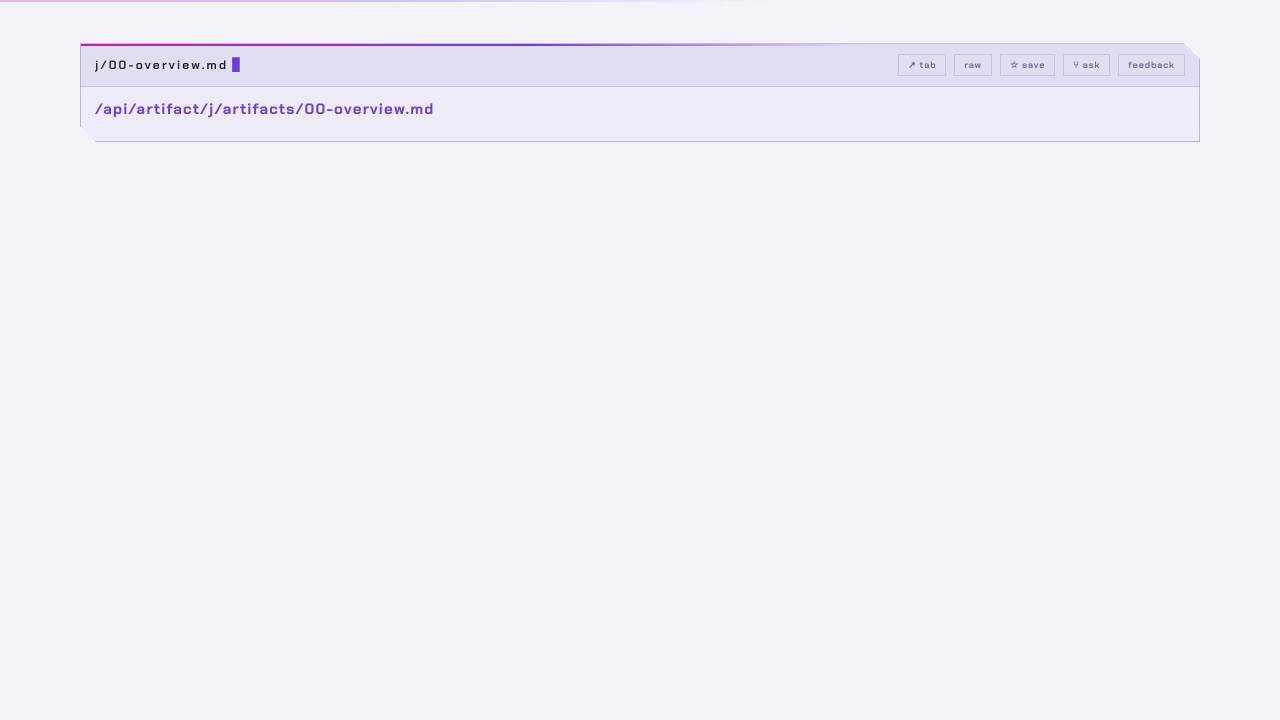
Test case: the ask composer › says so out of band when no tid comes back
Click the button "⑂ ask" at [1087, 65], box [1063,54,1110,76]
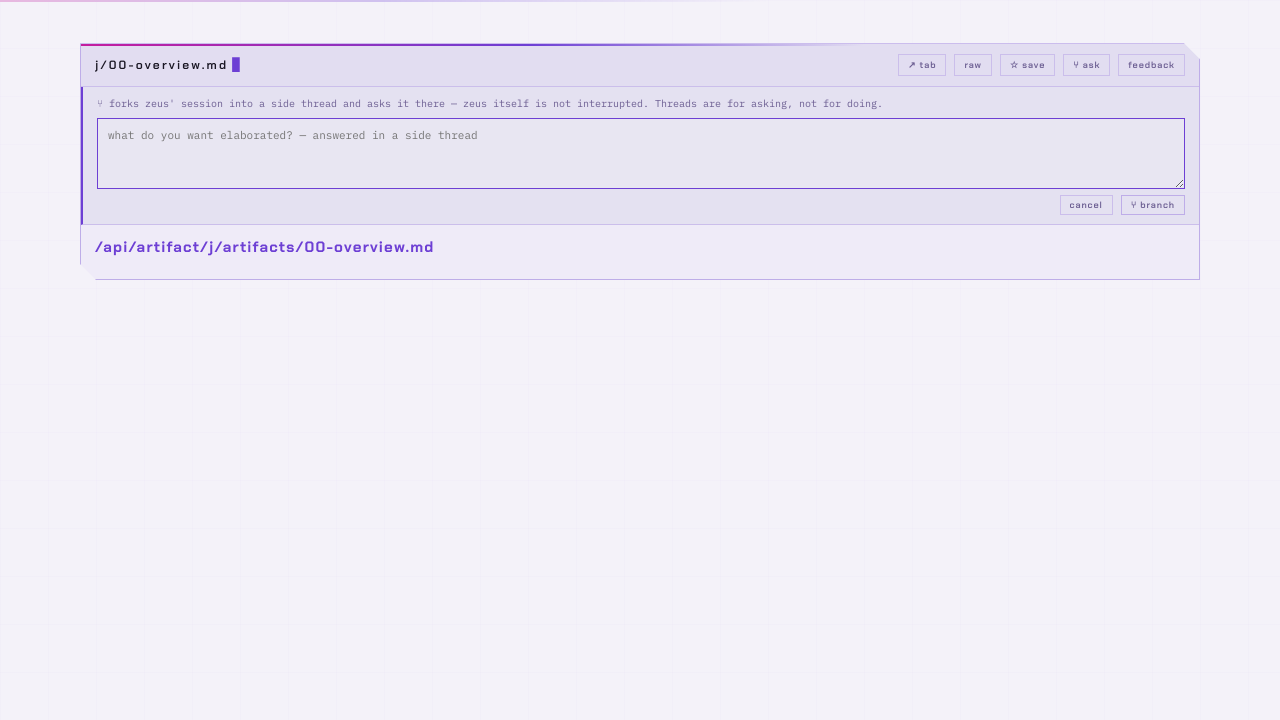
Type "no tid for this one" into the text box with id "ask-text" at [641, 154], box [97,118,1185,189]
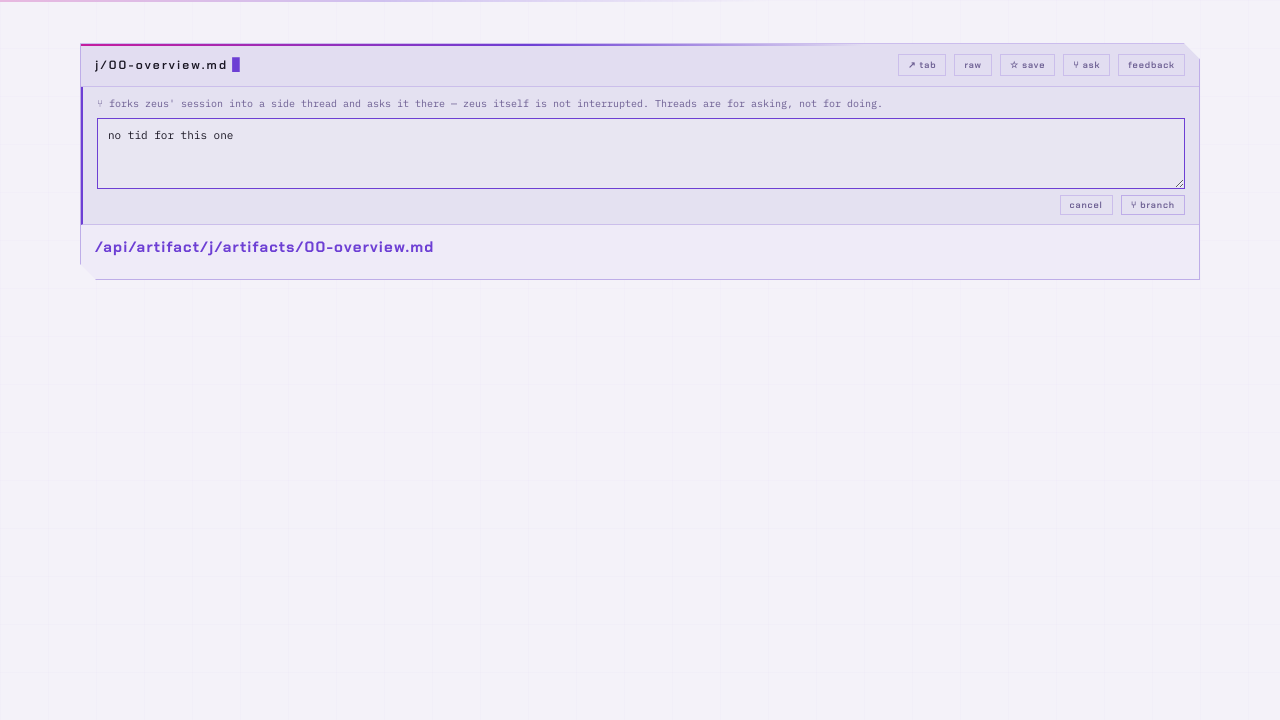
Click the button "⑂ branch" at [1153, 205], box [1121,195,1185,215]
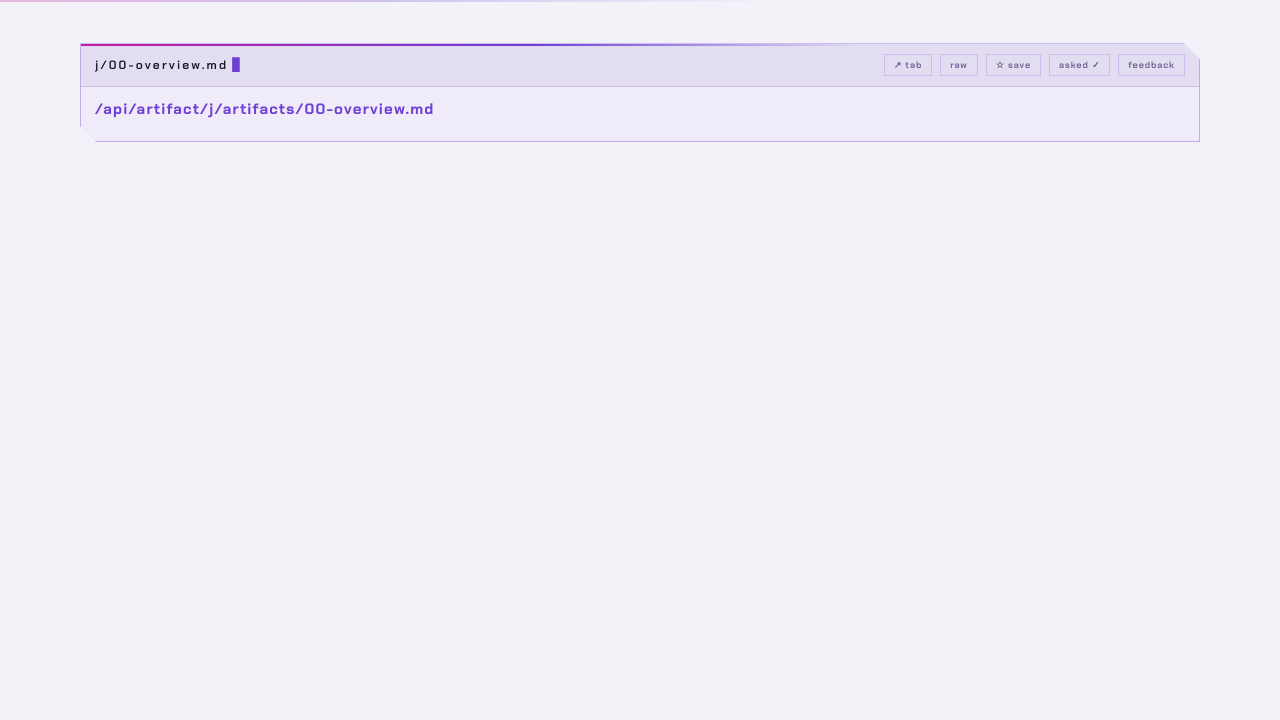
Check: the button "asked ✓" is shown, box [1049,54,1110,76]
